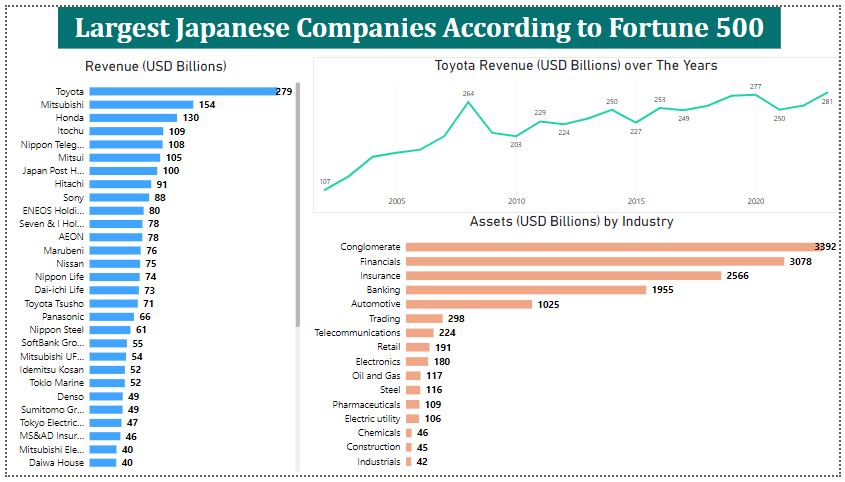

This screenshot's page, from the dashboard's own definition file:
{"tool":"powerbi","page":{"name":"Page 1","canvas":[1280,720],"ordinal":0},"visuals":[{"type":"barChart","title":"Revenue (USD Billions)","fields":{"Category":["Fortune_500.Name"],"Y":["Avg(Fortune_500.Revenue(USD billions))"]},"box":[0,77.8,456.5,642.2],"z":0},{"type":"lineChart","title":"Toyota Revenue (USD Billions) over The Years","fields":{"Y":["Sum(Sheet1.Revenue)"],"Category":["Sheet1.Year"]},"box":[470.9,77,809.3,240.5],"z":1},{"type":"barChart","title":"Assets (USD Billions) by Industry","fields":{"Category":["Fortune_500.Industry"],"Y":["Sum(Fortune_500.Assets (USD billions))"]},"box":[456.5,316.8,823.7,403.2],"z":2},{"type":"textbox","box":[77.8,0,1111.7,64],"z":3}]}

Visuals, with their boxes in screenshot pixels (x1, y1, x2, y2), scaled from the page's 1280x720 canvas onto the 845x482 screenshot:
"Revenue (USD Billions)" barChart: [x1=0, y1=52, x2=301, y2=481]
"Toyota Revenue (USD Billions) over The Years" lineChart: [x1=311, y1=52, x2=844, y2=213]
"Assets (USD Billions) by Industry" barChart: [x1=301, y1=212, x2=844, y2=481]
textbox: [x1=51, y1=0, x2=785, y2=43]
